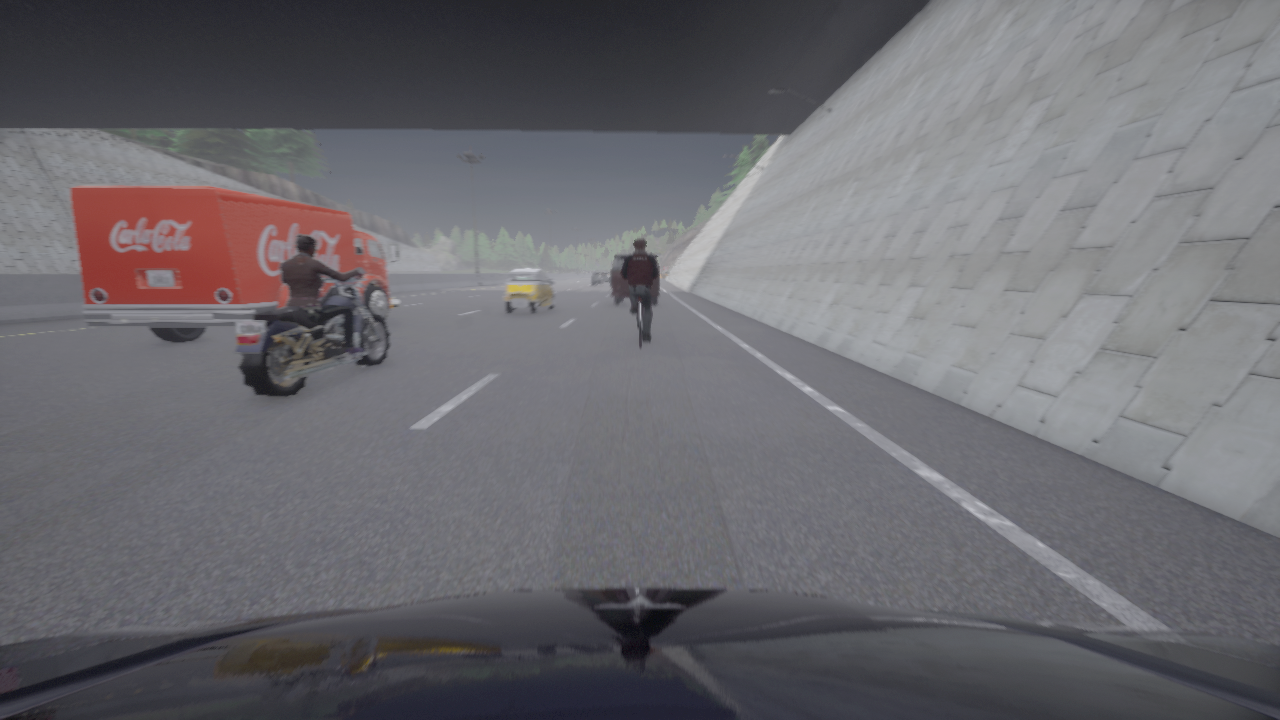cyclist: (0, 588, 1279, 719), (69, 185, 398, 342), (234, 268, 390, 397), (612, 253, 658, 304), (504, 268, 554, 314), (631, 297, 649, 347), (591, 270, 611, 286), (608, 270, 611, 274)
